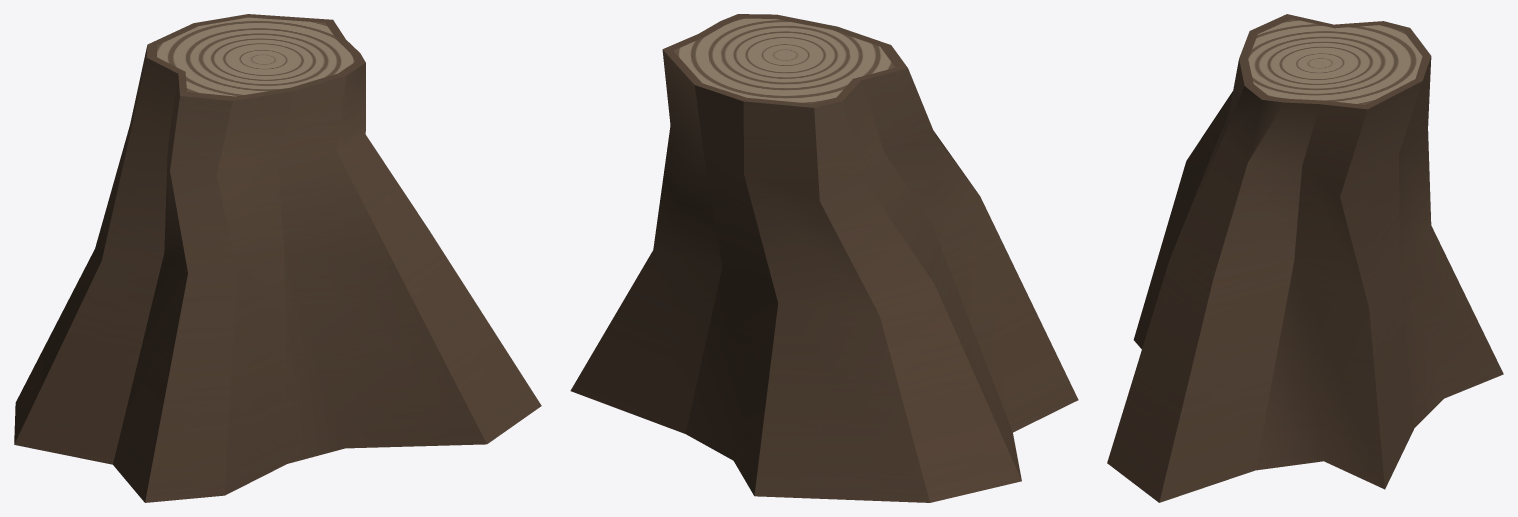
File: PT_Fruit_Tree_01_stump.glb
3 renders of one model, left to right at view 1: azimuth 30°, elevation 25°; view 2: azimuth 150°, elevation 25°; view 3: azimuth 270°, elevation 25°, orthographic. The views are drawn at different scales.
Visible parts, largest first — view 1: PT_Fruit_Tree_01_stump; view 2: PT_Fruit_Tree_01_stump; view 3: PT_Fruit_Tree_01_stump.
Boxes of the visible parts, x1=… form: PT_Fruit_Tree_01_stump: x1=14, y1=14, x2=541, y2=502; PT_Fruit_Tree_01_stump: x1=570, y1=14, x2=1078, y2=502; PT_Fruit_Tree_01_stump: x1=1107, y1=14, x2=1503, y2=502.
Size of the model in its own units: 1.24 by 0.9161 by 0.9636.
1 material, 1 textured.
